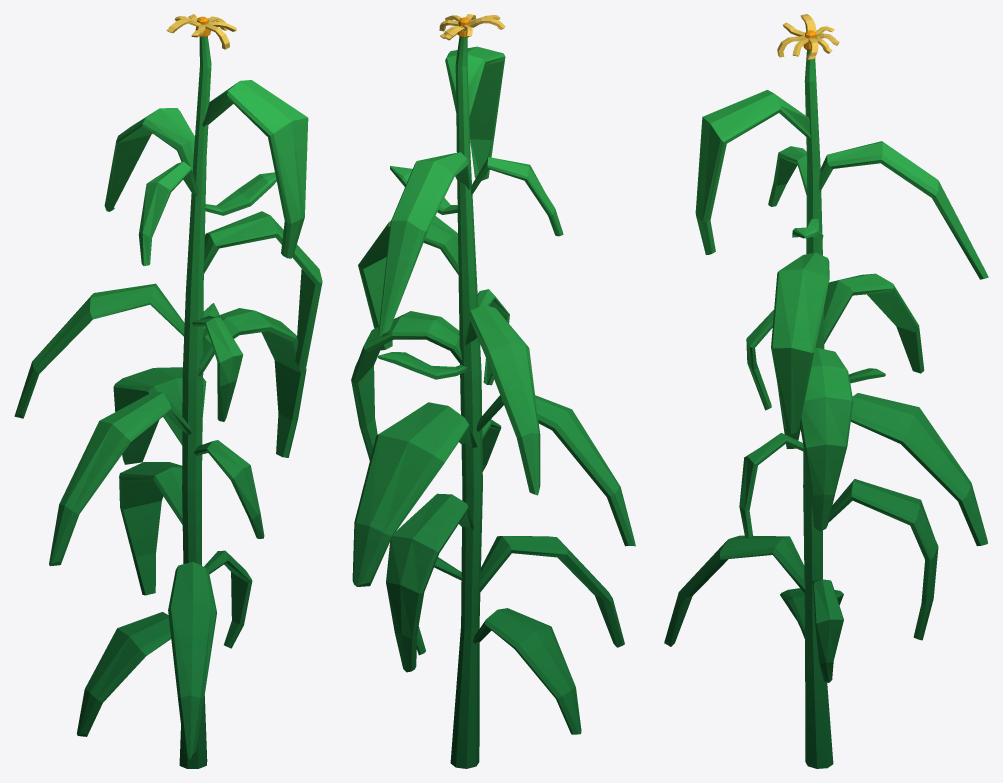
Rendered from crop_corn_stage2.glb.
3 renders of one model, left to right at view 1: azimuth 30°, elevation 25°; view 2: azimuth 150°, elevation 25°; view 3: azimuth 270°, elevation 25°, orthographic.
Visible parts, largest first — view 1: crop_corn_stage2; view 2: crop_corn_stage2; view 3: crop_corn_stage2.
Part boxes in pixels (bbox=[...]): crop_corn_stage2: bbox=[14, 14, 322, 768]; crop_corn_stage2: bbox=[351, 14, 635, 768]; crop_corn_stage2: bbox=[664, 14, 988, 768].
Size of the model in its own units: 0.301 by 0.8 by 0.3191.
1 material, 1 textured.
